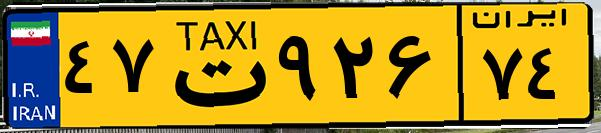2: (330, 28, 385, 110)
4: (57, 26, 110, 100), (525, 38, 570, 115)
6: (385, 28, 445, 110)
7: (475, 38, 525, 113), (110, 28, 158, 98)
9: (270, 28, 330, 110)
ت: (158, 12, 270, 120)
